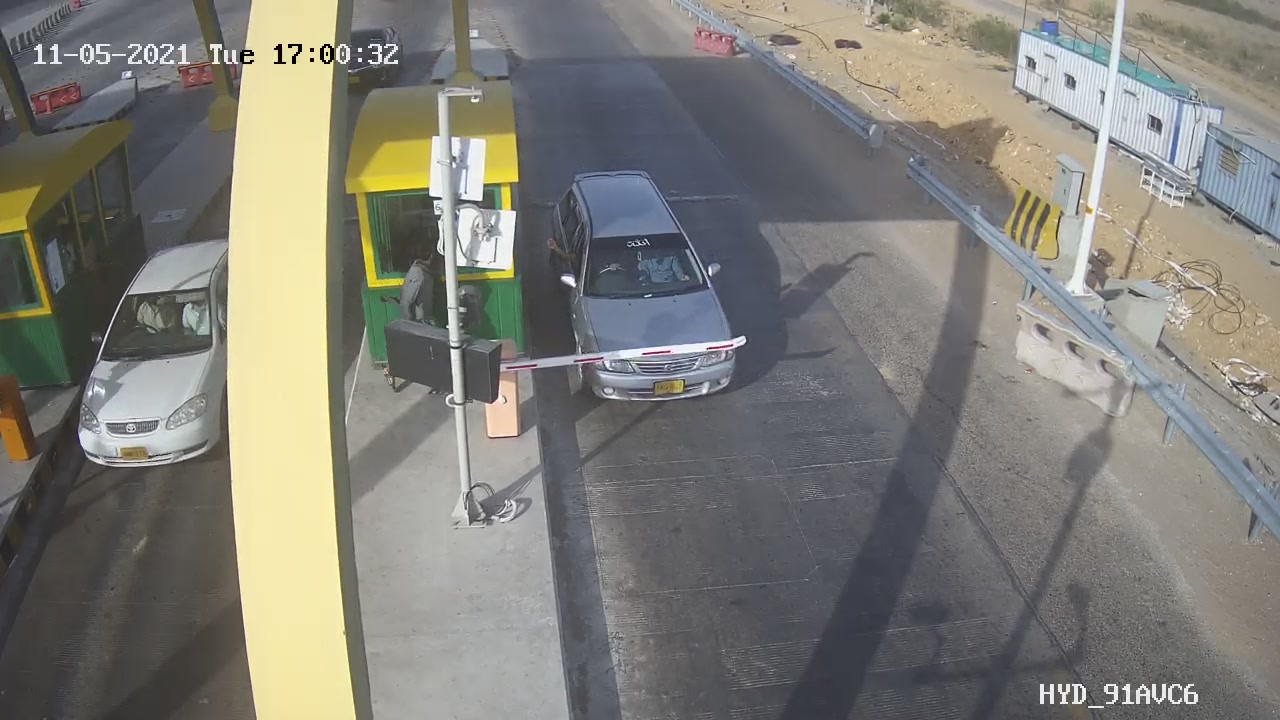F1: (527, 153, 772, 422)
